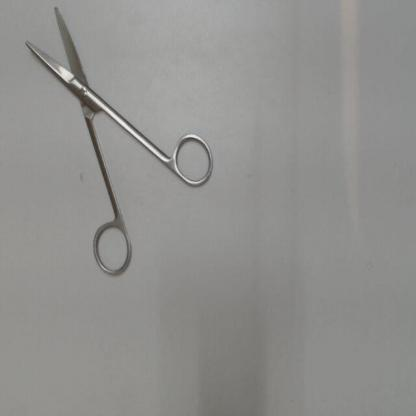Curved Mayo Scissors: (17, 3, 218, 282)
